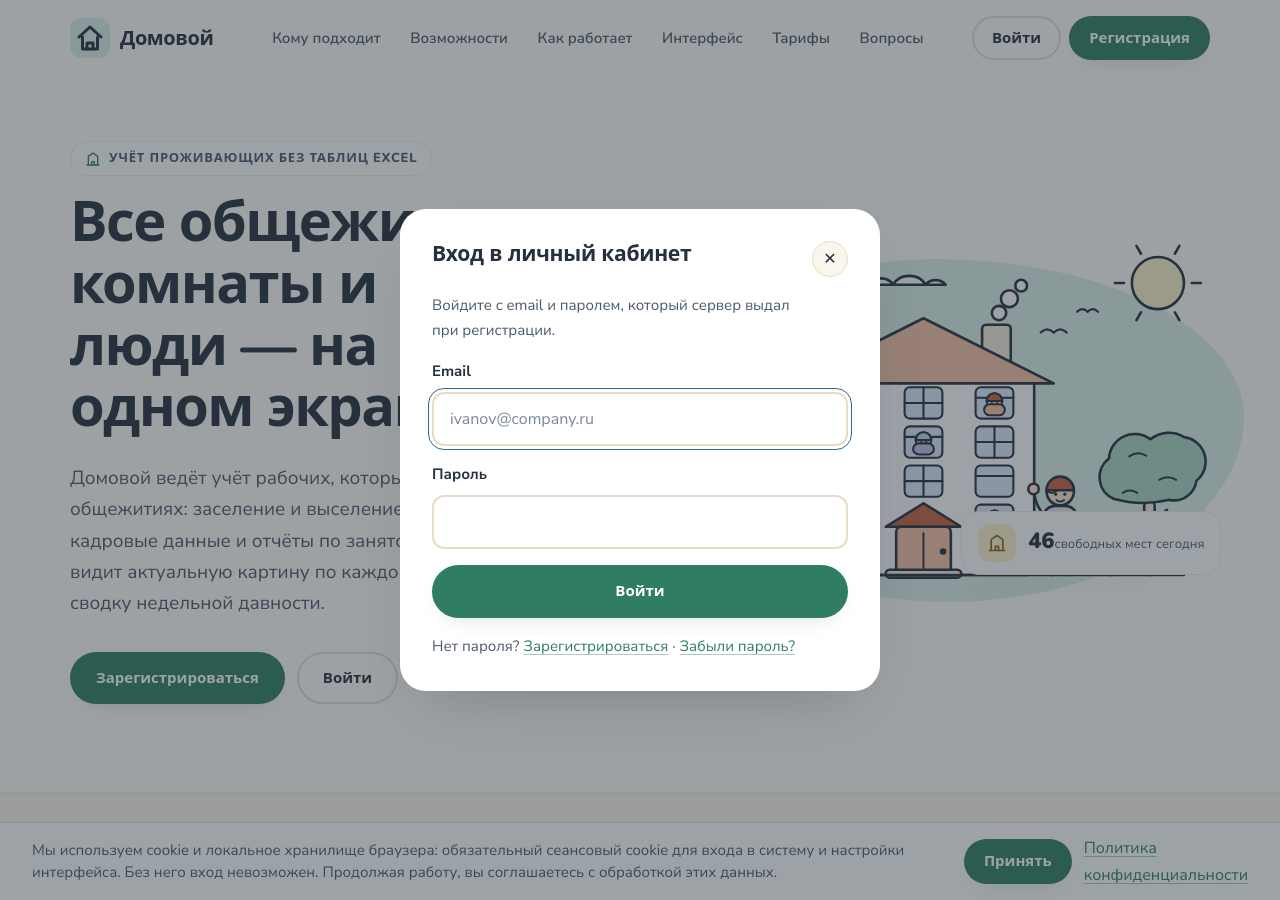
защищённый маршрут /cabinet › после входа возвращает на запрошенную страницу личных данных
Type "worker@example.com" into the field with test id "login-email" at (640, 419), box x1=432 y1=392 x2=848 y2=446
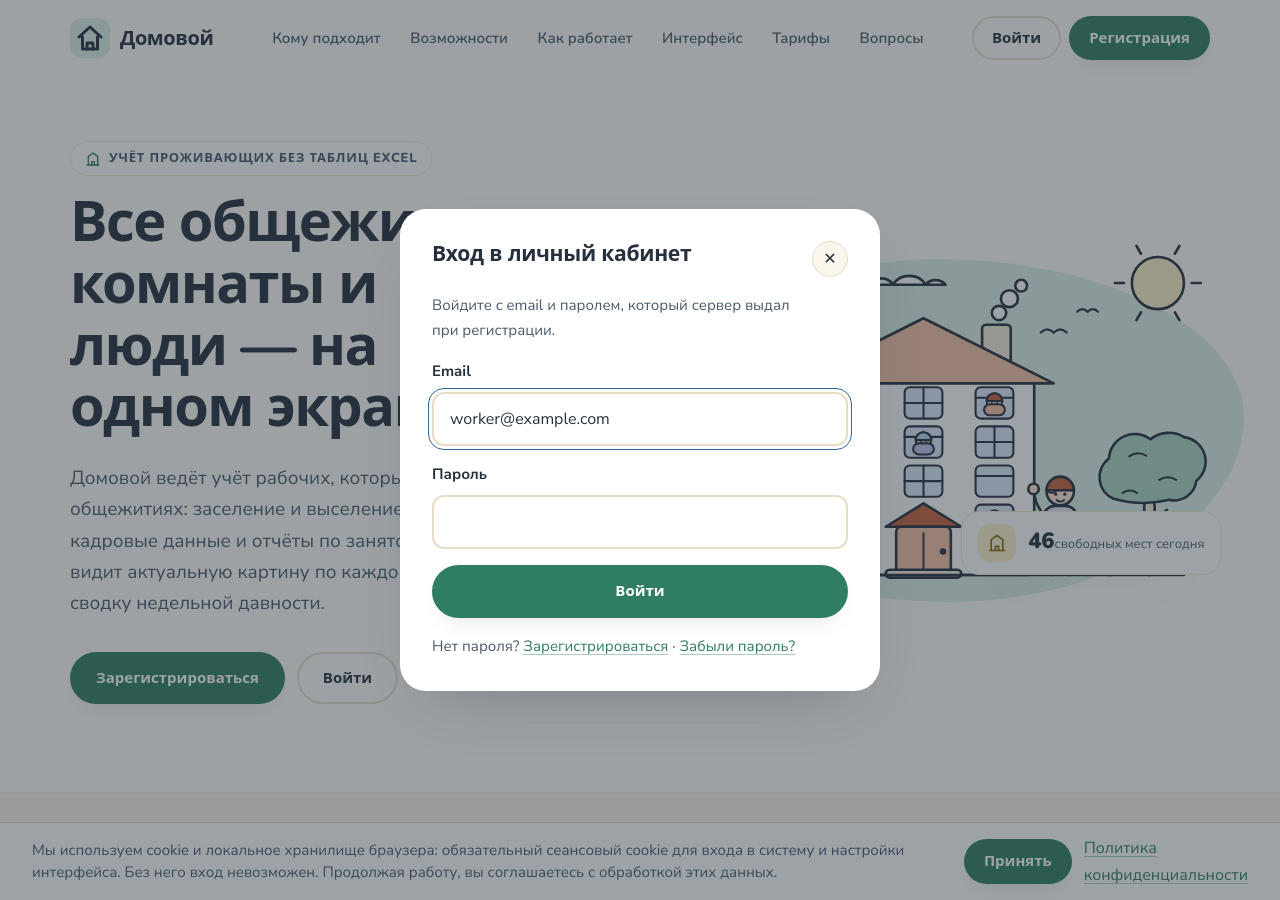
Type "s3cret-generated-password" into the password field with test id "login-password" at (640, 522), box x1=432 y1=495 x2=848 y2=549
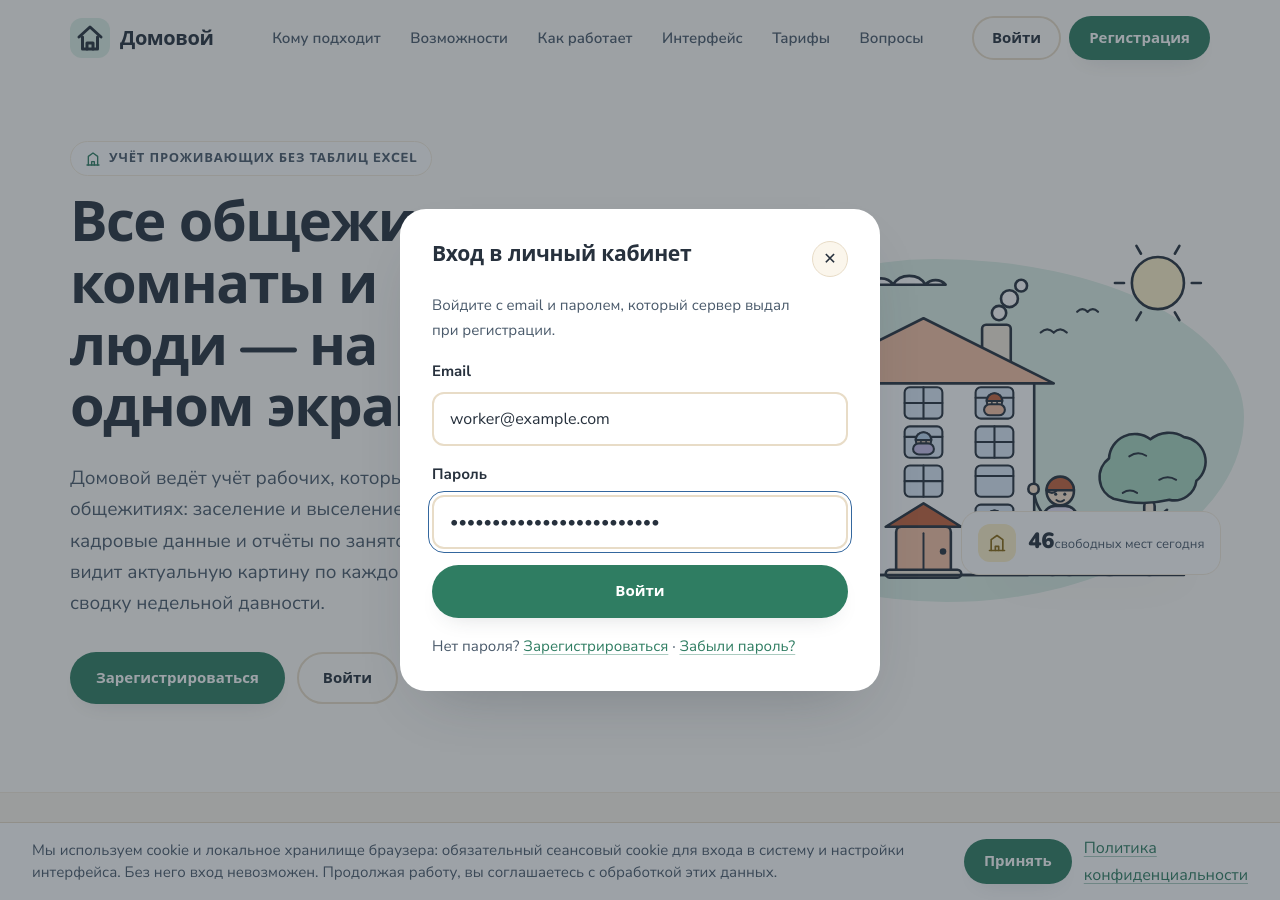
Click the button with test id "login-submit" at (640, 592), box x1=432 y1=565 x2=848 y2=618
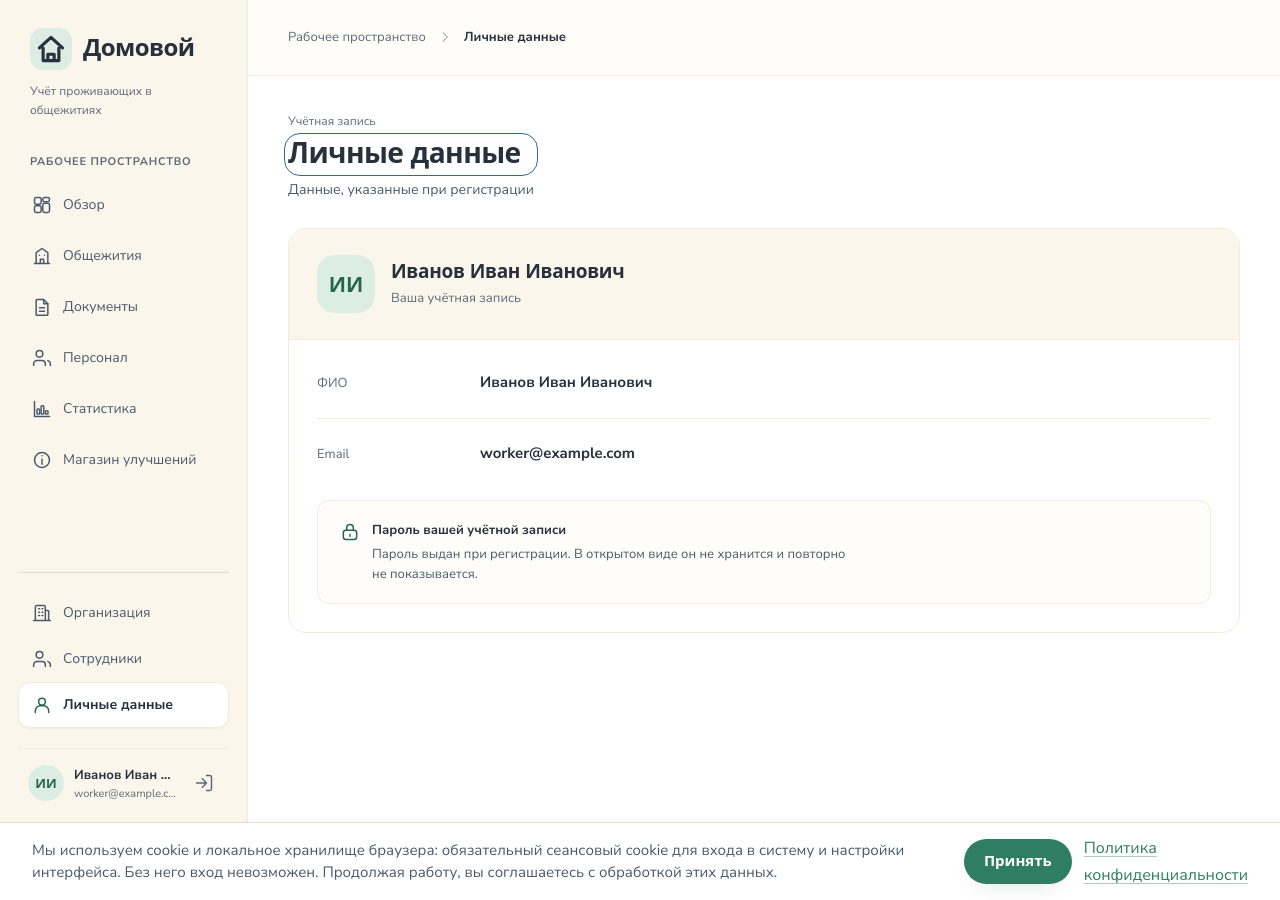
expect the text with test id "cabinet-email" reads "worker@example.com": met, box x1=480 y1=443 x2=635 y2=463
